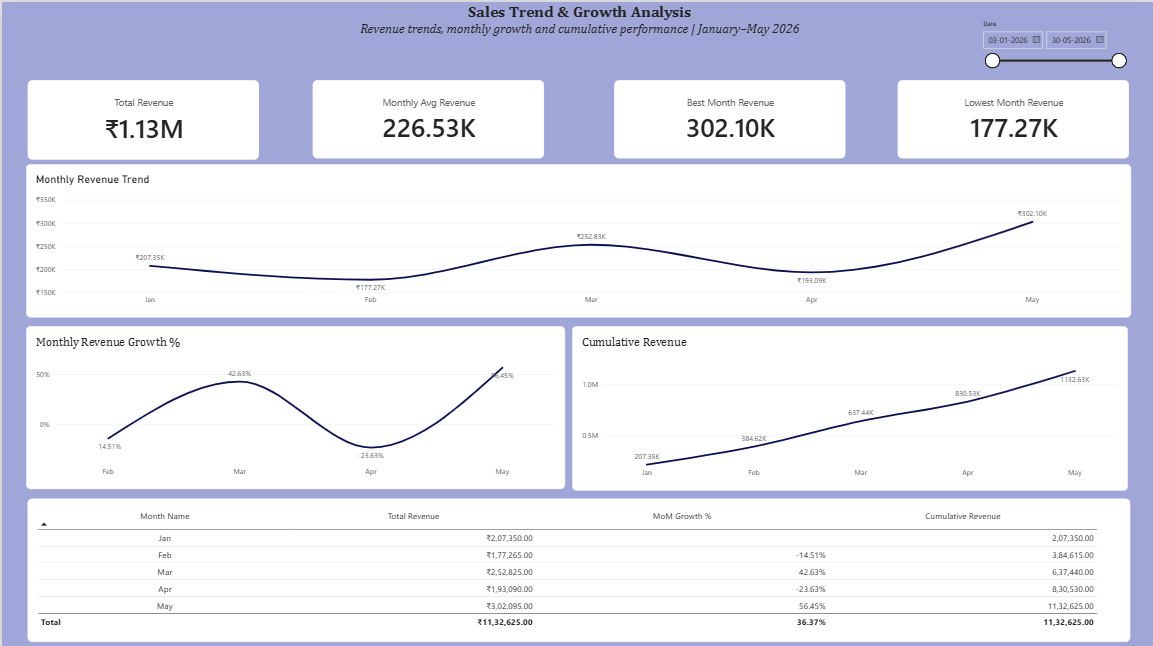

This screenshot's page, from the dashboard's own definition file:
{"tool":"powerbi","page":{"name":"Trend Analysis","canvas":[1920,1080],"ordinal":4},"visuals":[{"type":"textbox","box":[7.7,0,1910.6,59.6],"z":0},{"type":"cardVisual","fields":{"Data":["sales.Total Revenue"]},"box":[42.9,128.8,386.5,133.6],"z":1000},{"type":"cardVisual","fields":{"Data":["sales.Monthly Avg Revenue"]},"box":[517.7,131.2,386.5,131.2],"z":2000},{"type":"cardVisual","fields":{"Data":["sales.Best Month Revenue"]},"box":[1018.8,131.2,386.5,131.2],"z":3000},{"type":"cardVisual","fields":{"Data":["sales.Lowest Month Revenue"]},"box":[1493.6,131.2,386.5,131.2],"z":4000},{"type":"lineChart","title":"Monthly Revenue Trend","fields":{"Category":["DateTable.Month Name"],"Y":["sales.Total Revenue"]},"box":[40.6,270.8,1841.7,256.2],"z":5000},{"type":"lineChart","title":"Monthly Revenue Growth %","fields":{"Category":["DateTable.Month Name"],"Y":["sales.MoM Growth %"]},"box":[41.1,540,898.9,272.2],"z":5001},{"type":"lineChart","title":"Cumulative Revenue","fields":{"Category":["DateTable.Month Name"],"Y":["sales.Cumulative Revenue"]},"box":[951.1,538.9,926.7,274.4],"z":5002},{"type":"tableEx","fields":{"Values":["DateTable.Month Name","sales.Total Revenue","sales.MoM Growth %","sales.Cumulative Revenue"]},"box":[41.4,826.3,1838.1,239.3],"z":5003},{"type":"slicer","fields":{"Values":["DateTable.Date"]},"box":[1628.6,29.8,250.5,85.9],"z":5004}]}

Visuals, with their boxes in screenshot pixels (x1, y1, x2, y2), scaled from the page's 1920x1080 canvas onto the 1153x646 screenshot:
textbox: box(5, 0, 1152, 36)
cardVisual - sales.Total Revenue: box(26, 77, 258, 157)
cardVisual - sales.Monthly Avg Revenue: box(311, 78, 543, 157)
cardVisual - sales.Best Month Revenue: box(612, 78, 844, 157)
cardVisual - sales.Lowest Month Revenue: box(897, 78, 1129, 157)
"Monthly Revenue Trend" lineChart: box(24, 162, 1130, 315)
"Monthly Revenue Growth %" lineChart: box(25, 323, 564, 486)
"Cumulative Revenue" lineChart: box(571, 322, 1128, 486)
tableEx - DateTable.Month Name x sales.Total Revenue: box(25, 494, 1129, 637)
slicer - DateTable.Date: box(978, 18, 1128, 69)
